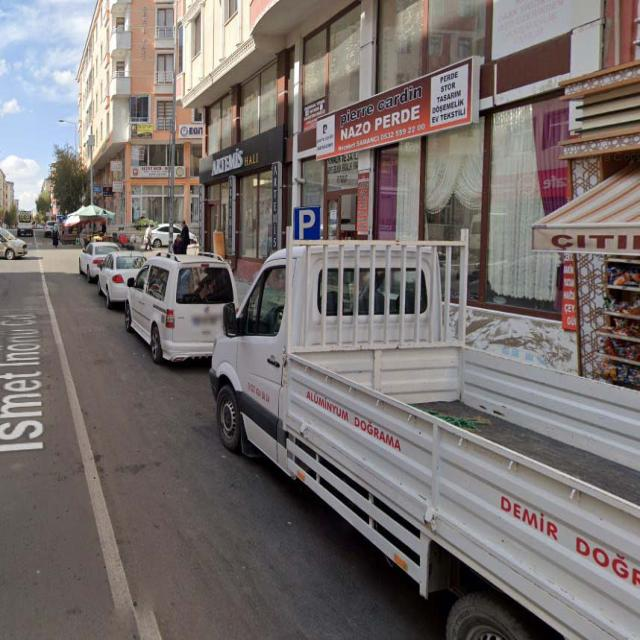park: (294, 207, 320, 240)
